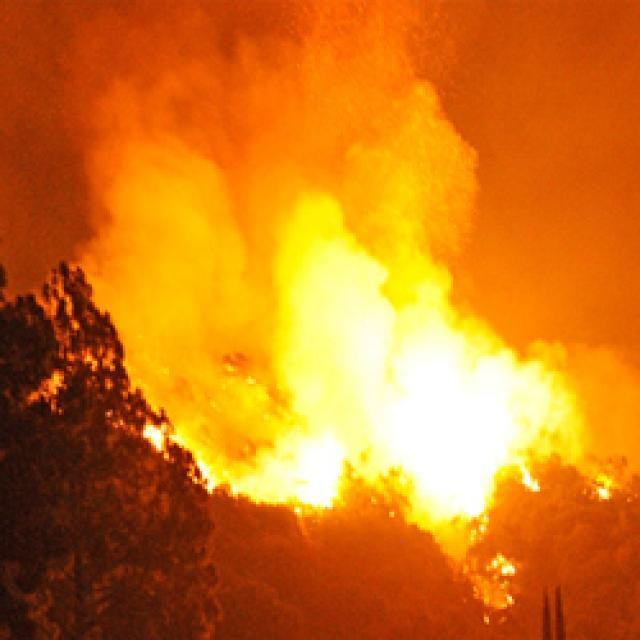Fire: (240, 186, 544, 586), (82, 298, 328, 514), (534, 403, 628, 507)
Smoke: (23, 18, 634, 436)
